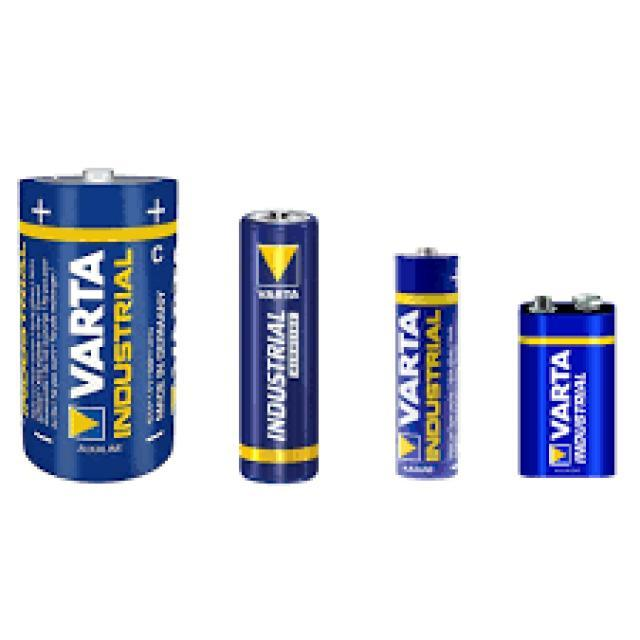battery: (15, 165, 181, 485), (234, 210, 316, 486), (514, 296, 620, 477), (386, 243, 464, 487)
